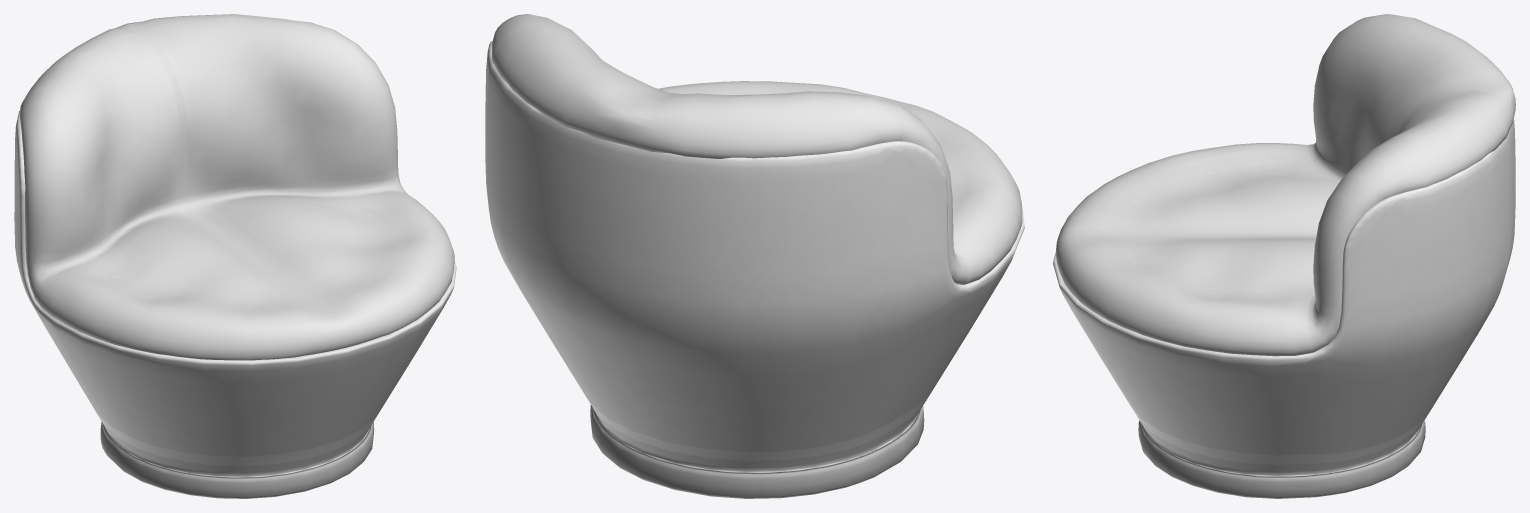
The model's file is Chair03.FBX.
3 views of the same model, side by side, from view 1: azimuth 30°, elevation 25°; view 2: azimuth 150°, elevation 25°; view 3: azimuth 270°, elevation 25° (orthographic). The views are drawn at different scales.
Visible parts, largest first — view 1: Chair03; view 2: Chair03; view 3: Chair03.
Part boxes in pixels (<box>): Chair03: <box>14,14,456,498</box>; Chair03: <box>485,14,1024,498</box>; Chair03: <box>1053,14,1515,498</box>.
Size of what is drawn, in the model's own units: 1.12 by 0.982 by 1.14.
